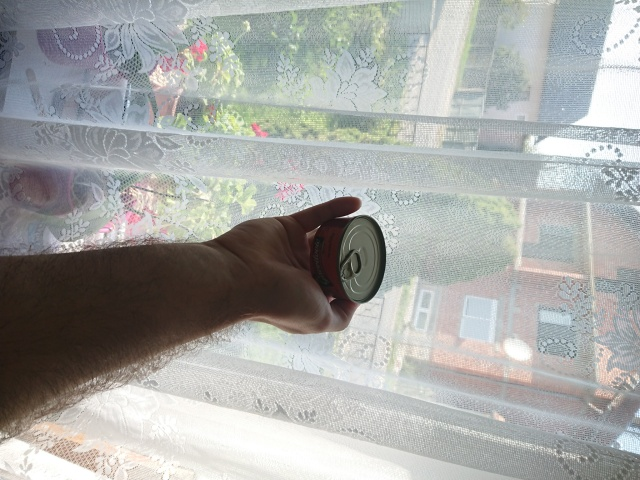Gavrilovic Pork Liver Pate 100g: (307, 213, 389, 307)
